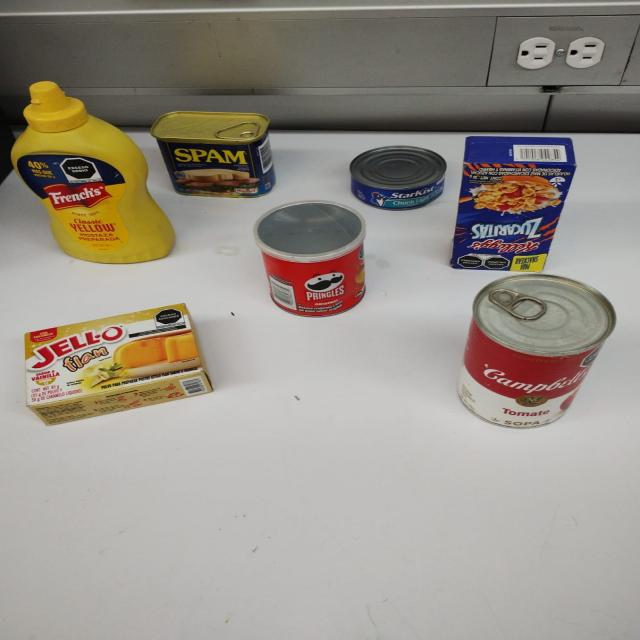can of cream: (461, 277, 618, 426)
can of tuna: (348, 145, 448, 211)
cereal: (443, 136, 576, 275)
chips: (254, 200, 368, 321)
jelly: (23, 305, 218, 423)
mustard: (11, 82, 178, 264)
spam: (150, 111, 274, 199)
